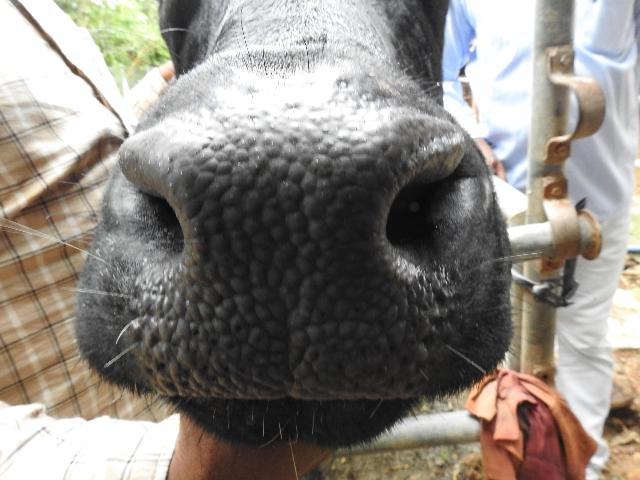Muzzle: (138, 127, 414, 393)
